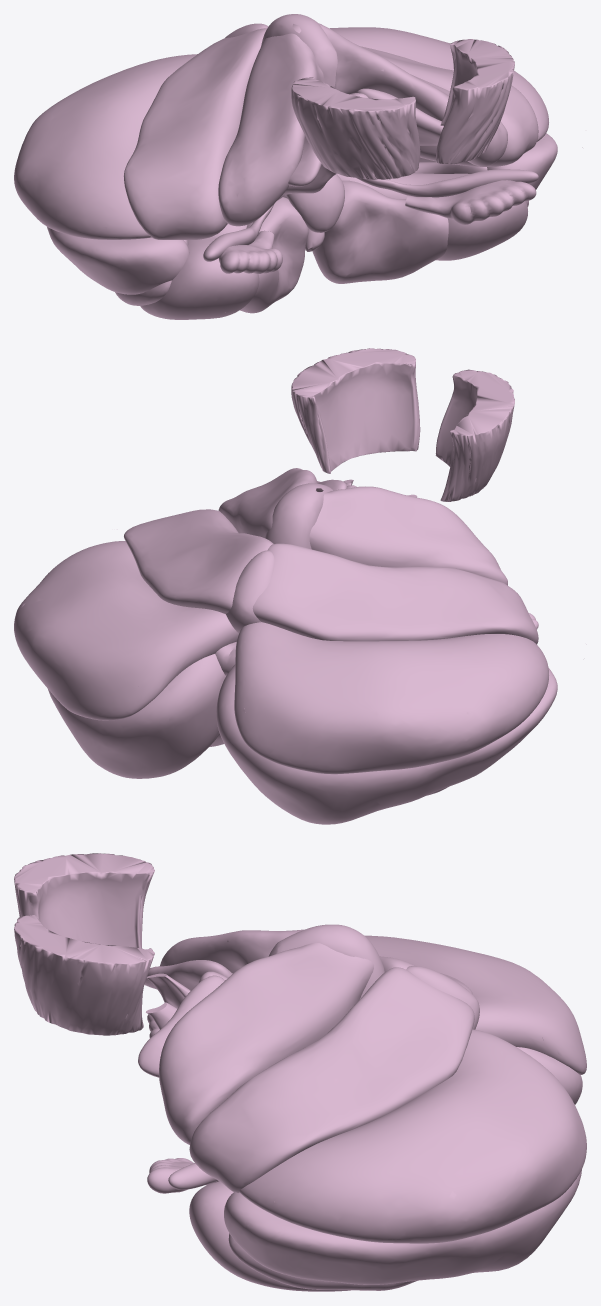
File: z-anatomy-cerebellum.glb
The picture shows the model from 3 angles, top to bottom: view 1: azimuth 30°, elevation 25°; view 2: azimuth 150°, elevation 25°; view 3: azimuth 270°, elevation 25°; orthographic projection. The views are drawn at different scales.
Parts seen in each view (by area): view 1: cerebellum-superior-semilunar-lobule-right__Superior semilun, cerebellum-posterior-quadrangular-lobule-right__Posterior qu, cerebellum-anterior-quadrangular-lobule-right__Anterior quad, cerebellum-base-of-peduncle-right__Base of peduncle.r, cerebellum-tonsil-of-cerebellum-left__Tonsil of cerebellum.l, cerebellum-base-of-peduncle-left__Base of peduncle.l, cerebellum-inferior-semilunar-lobule-right__Inferior semilun, cerebellum-biventral-lobule-right__Biventral lobule.r, cerebellum-anterior-quadrangular-lobule-left__Anterior quadr, cerebellum-biventral-lobule-left__Biventral lobule.l, cerebellum-superior-semilunar-lobule-left__Superior semiluna, cerebellum-tonsil-of-cerebellum-right__Tonsil of cerebellum. (+13 smaller); view 2: cerebellum-superior-semilunar-lobule-right__Superior semilun, cerebellum-superior-semilunar-lobule-left__Superior semiluna, cerebellum-posterior-quadrangular-lobule-right__Posterior qu, cerebellum-inferior-semilunar-lobule-right__Inferior semilun, cerebellum-base-of-peduncle-left__Base of peduncle.l, cerebellum-anterior-quadrangular-lobule-right__Anterior quad, cerebellum-inferior-semilunar-lobule-left__Inferior semiluna, cerebellum-posterior-quadrangular-lobule-left__Posterior qua, cerebellum-base-of-peduncle-right__Base of peduncle.r, cerebellum-anterior-quadrangular-lobule-left__Anterior quadr, cerebellum-culmen__Culmen, cerebellum-declive__Declive; view 3: cerebellum-superior-semilunar-lobule-left__Superior semiluna, cerebellum-posterior-quadrangular-lobule-left__Posterior qua, cerebellum-anterior-quadrangular-lobule-left__Anterior quadr, cerebellum-inferior-semilunar-lobule-left__Inferior semiluna, cerebellum-base-of-peduncle-left__Base of peduncle.l, cerebellum-superior-semilunar-lobule-right__Superior semilun, cerebellum-base-of-peduncle-right__Base of peduncle.r, cerebellum-biventral-lobule-left__Biventral lobule.l, cerebellum-anterior-quadrangular-lobule-right__Anterior quad, cerebellum-culmen__Culmen, cerebellum-wing-of-central-lobule-left__Wing of central lobu, cerebellum-gracile-lobule-left__Gracile lobule.l (+6 smaller).
Part boxes in pixels (<box>): cerebellum-superior-semilunar-lobule-right__Superior semilun: <box>14,54,197,239</box>; cerebellum-posterior-quadrangular-lobule-right__Posterior qu: <box>123,28,267,239</box>; cerebellum-anterior-quadrangular-lobule-right__Anterior quad: <box>218,24,324,226</box>; cerebellum-base-of-peduncle-right__Base of peduncle.r: <box>291,77,420,179</box>; cerebellum-tonsil-of-cerebellum-left__Tonsil of cerebellum.l: <box>312,180,448,283</box>; cerebellum-base-of-peduncle-left__Base of peduncle.l: <box>435,39,514,164</box>; cerebellum-inferior-semilunar-lobule-right__Inferior semilun: <box>47,227,189,294</box>; cerebellum-biventral-lobule-right__Biventral lobule.r: <box>140,224,259,319</box>; cerebellum-anterior-quadrangular-lobule-left__Anterior quadr: <box>319,23,507,166</box>; cerebellum-biventral-lobule-left__Biventral lobule.l: <box>336,173,527,260</box>; cerebellum-superior-semilunar-lobule-left__Superior semiluna: <box>330,27,548,141</box>; cerebellum-tonsil-of-cerebellum-right__Tonsil of cerebellum.: <box>240,197,308,313</box>; cerebellum-superior-semilunar-lobule-right__Superior semilun: <box>234,622,586,774</box>; cerebellum-superior-semilunar-lobule-left__Superior semiluna: <box>14,529,238,720</box>; cerebellum-posterior-quadrangular-lobule-right__Posterior qu: <box>252,543,538,644</box>; cerebellum-inferior-semilunar-lobule-right__Inferior semilun: <box>216,664,557,824</box>; cerebellum-base-of-peduncle-left__Base of peduncle.l: <box>291,348,420,473</box>; cerebellum-anterior-quadrangular-lobule-right__Anterior quad: <box>309,486,507,585</box>; cerebellum-inferior-semilunar-lobule-left__Inferior semiluna: <box>48,654,225,778</box>; cerebellum-posterior-quadrangular-lobule-left__Posterior qua: <box>124,509,273,614</box>; cerebellum-base-of-peduncle-right__Base of peduncle.r: <box>435,369,514,501</box>; cerebellum-anterior-quadrangular-lobule-left__Anterior quadr: <box>218,468,317,537</box>; cerebellum-culmen__Culmen: <box>265,483,333,549</box>; cerebellum-declive__Declive: <box>226,550,274,633</box>; cerebellum-superior-semilunar-lobule-left__Superior semiluna: <box>239,1029,586,1243</box>; cerebellum-posterior-quadrangular-lobule-left__Posterior qua: <box>189,967,474,1193</box>; cerebellum-anterior-quadrangular-lobule-left__Anterior quadr: <box>159,943,373,1144</box>; cerebellum-inferior-semilunar-lobule-left__Inferior semiluna: <box>224,1169,581,1284</box>; cerebellum-base-of-peduncle-left__Base of peduncle.l: <box>14,915,154,1035</box>; cerebellum-superior-semilunar-lobule-right__Superior semilun: <box>365,935,586,1074</box>; cerebellum-base-of-peduncle-right__Base of peduncle.r: <box>14,853,154,948</box>; cerebellum-biventral-lobule-left__Biventral lobule.l: <box>189,1181,350,1291</box>; cerebellum-anterior-quadrangular-lobule-right__Anterior quad: <box>160,929,303,973</box>; cerebellum-culmen__Culmen: <box>268,924,384,998</box>; cerebellum-wing-of-central-lobule-left__Wing of central lobu: <box>138,975,224,1077</box>; cerebellum-gracile-lobule-left__Gracile lobule.l: <box>228,1233,417,1290</box>.
Bounding box in the file's own units: 0.0982 × 0.0575 × 0.0906.
